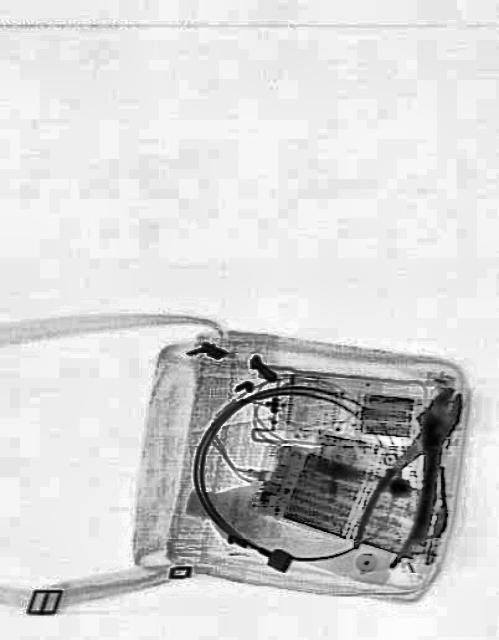Pliers: (345, 370, 485, 580)
